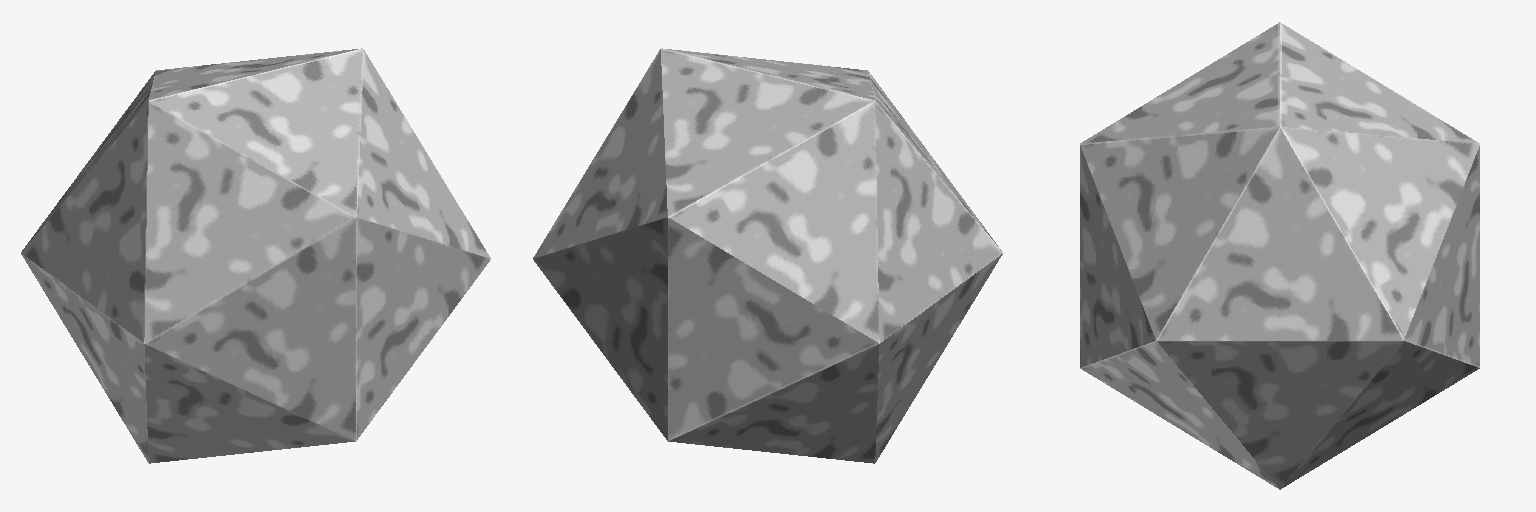
3 views of the same model, side by side, from view 1: azimuth 30°, elevation 25°; view 2: azimuth 150°, elevation 25°; view 3: azimuth 270°, elevation 25° (orthographic).
Parts seen in each view (by area): view 1: Platonic; view 2: Platonic; view 3: Platonic.
Boxes of the visible parts, x1,y1,x2,y2 form: Platonic: [21, 48, 490, 463]; Platonic: [533, 48, 1002, 463]; Platonic: [1080, 22, 1479, 489].
Size of the model in its own units: 162 by 162 by 162.
1 materials, 1 textured.